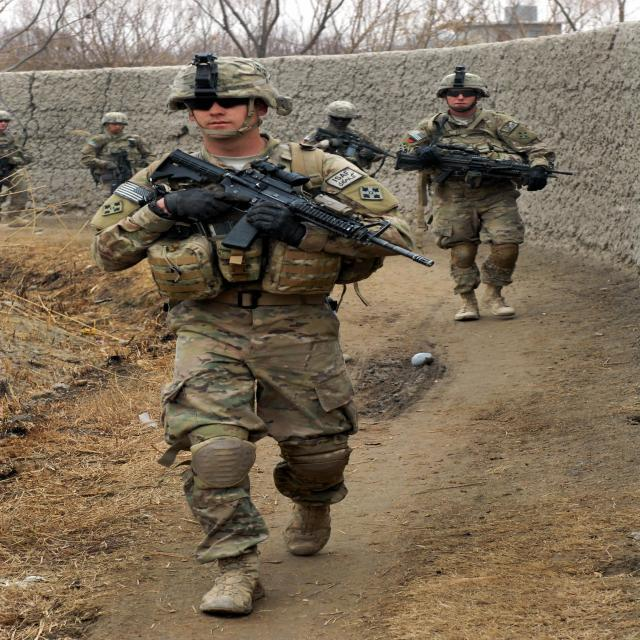Rifle: (148, 149, 434, 268), (396, 143, 572, 188), (313, 127, 396, 158), (99, 150, 135, 194)
